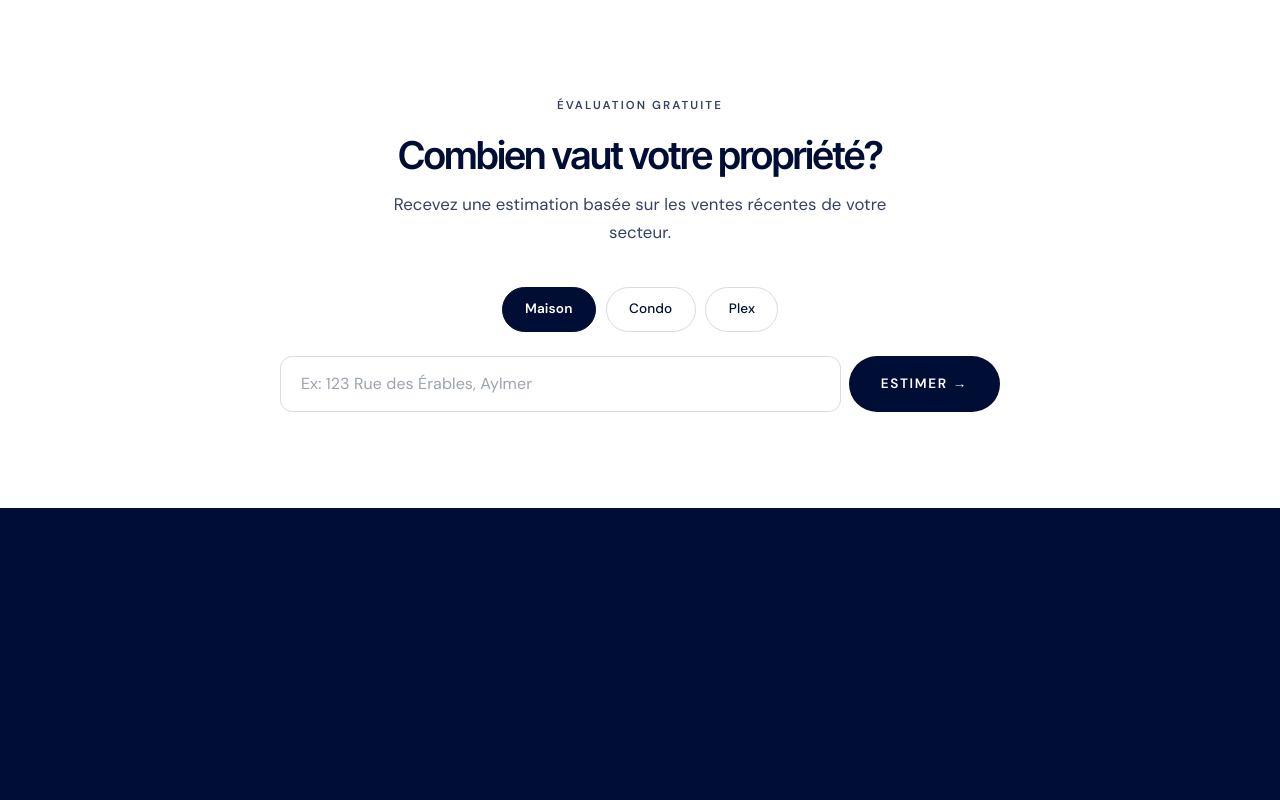
Test case: ValuationWidget analytics events (post schema-attribute removal) › fires generate_lead via trackLead after successful form completion
Later steps or results of the test are not shown.
Type "100 Rue Principale, Aylmer" into the field with placeholder "Ex: 123 Rue des Érables, Aylmer" at (560, 384), box [280,356,841,412]
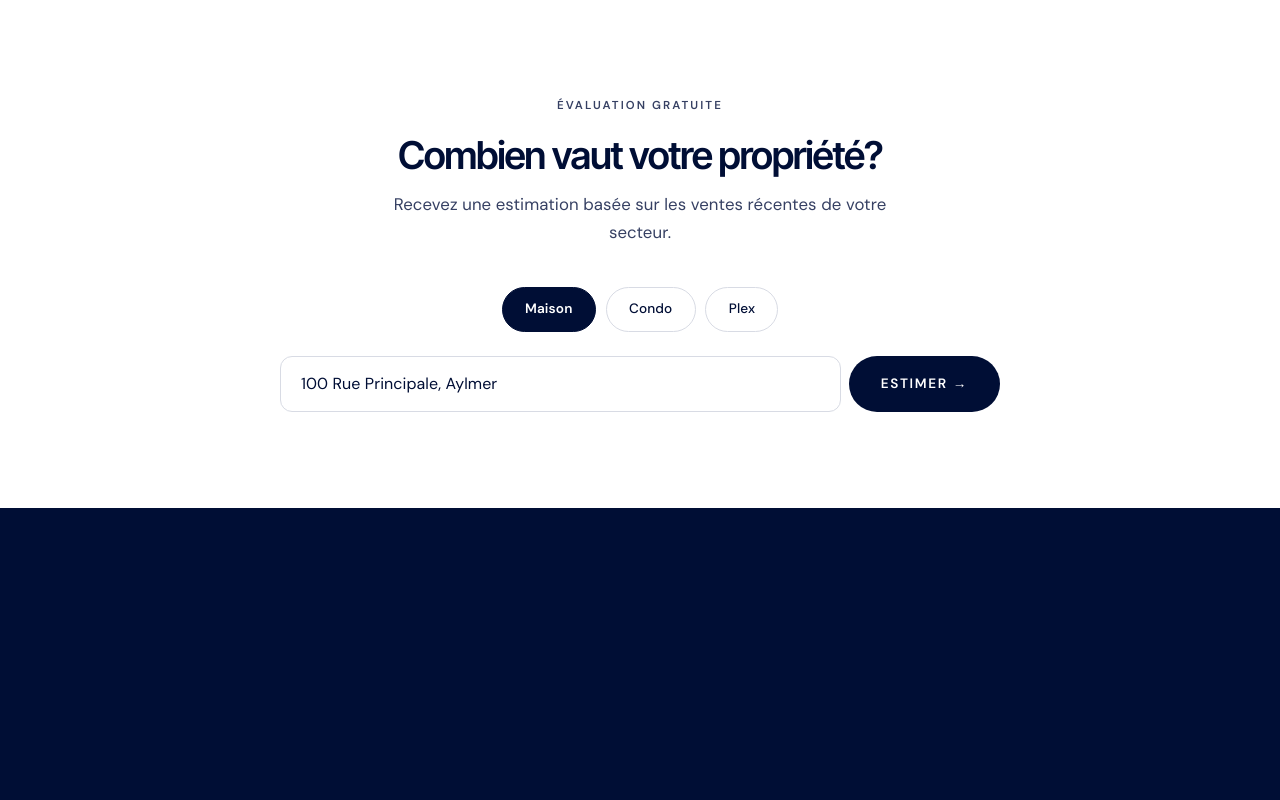
Click the button "ESTIMER →" at (924, 384), box [849,356,1000,412]
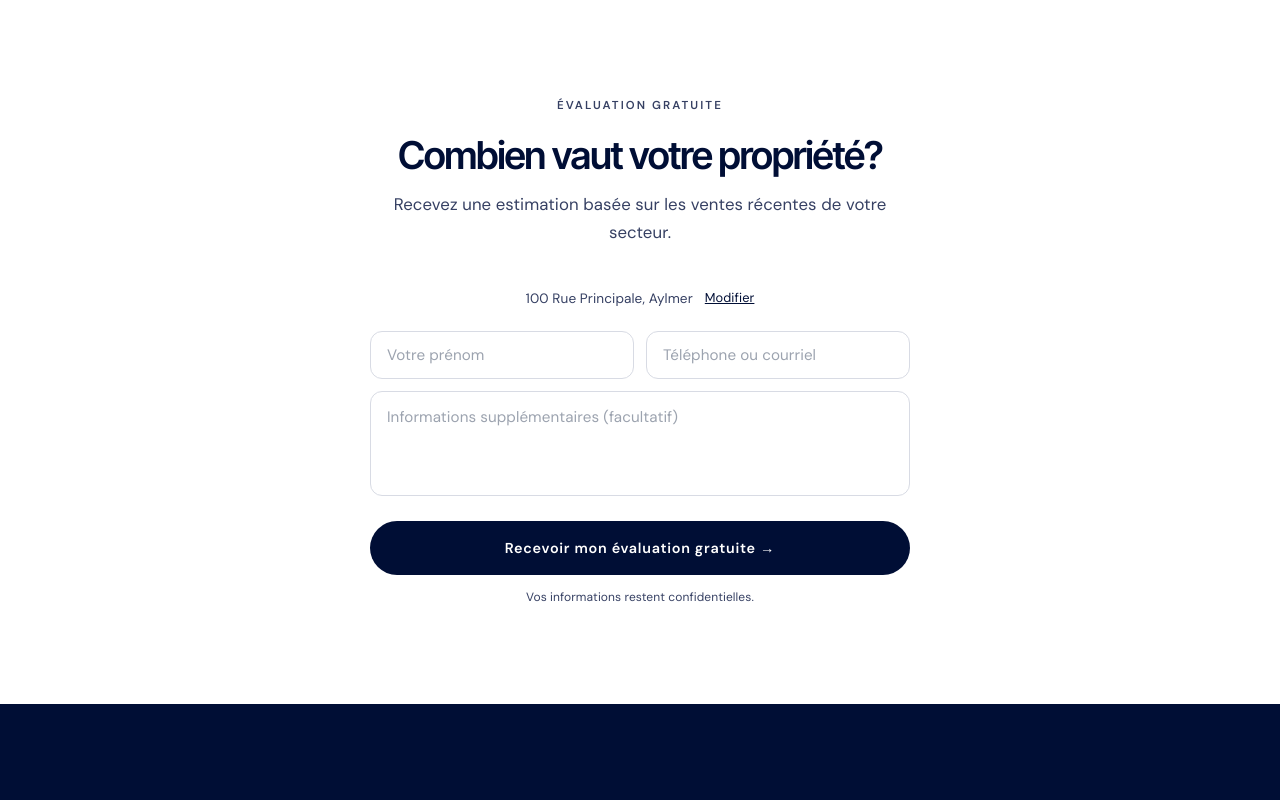
Check: the field with placeholder "Votre prénom" is shown, box [370,330,634,378]
